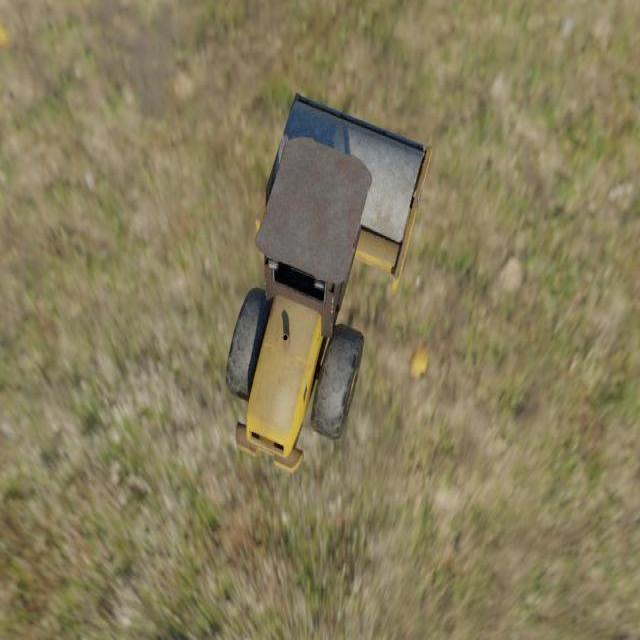Roller: (225, 92, 432, 473)
